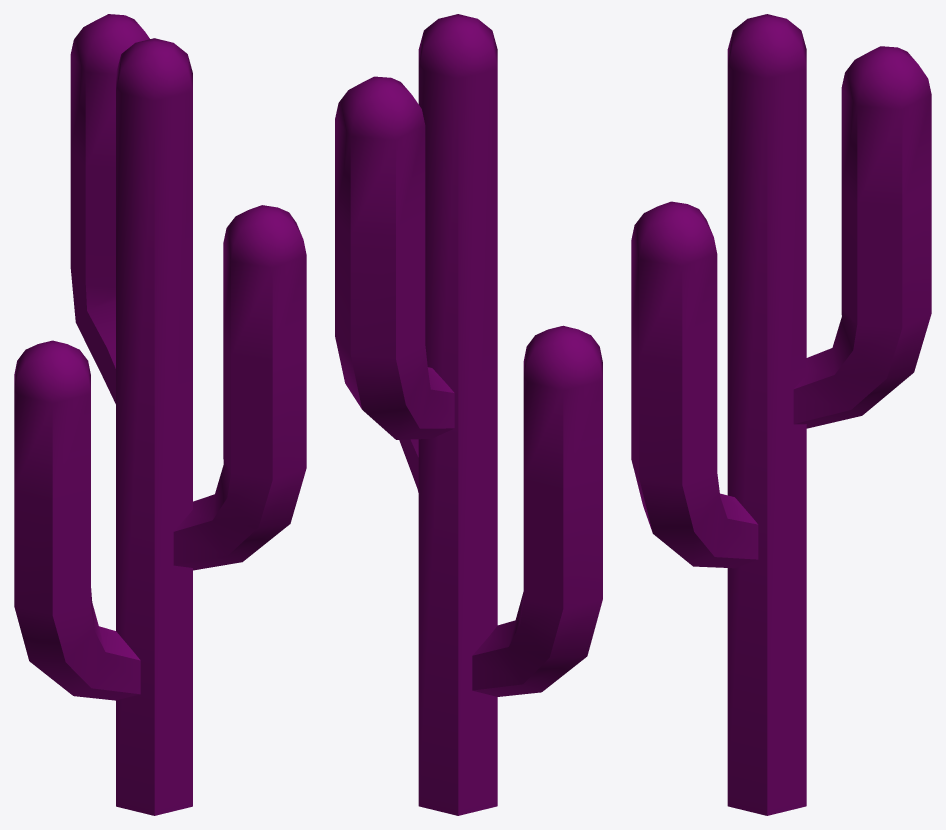
Rendered from Cactus.fbx.
3 renders of one model, left to right at view 1: azimuth 30°, elevation 25°; view 2: azimuth 150°, elevation 25°; view 3: azimuth 270°, elevation 25°, orthographic. The views are drawn at different scales.
Parts seen in each view (by area): view 1: polySurface1; view 2: polySurface1; view 3: polySurface1.
Part boxes in pixels (left/top/right/bottom): polySurface1: left=14, top=14, right=306, bottom=815; polySurface1: left=335, top=14, right=602, bottom=815; polySurface1: left=631, top=14, right=931, bottom=815.
Size of the model in its own units: 2 by 5.91 by 2.07.
